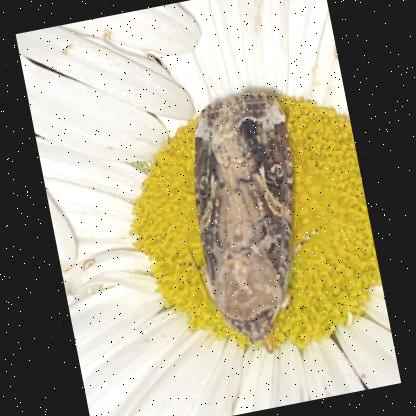Fall Armyworm Moth: (158, 79, 348, 368)
